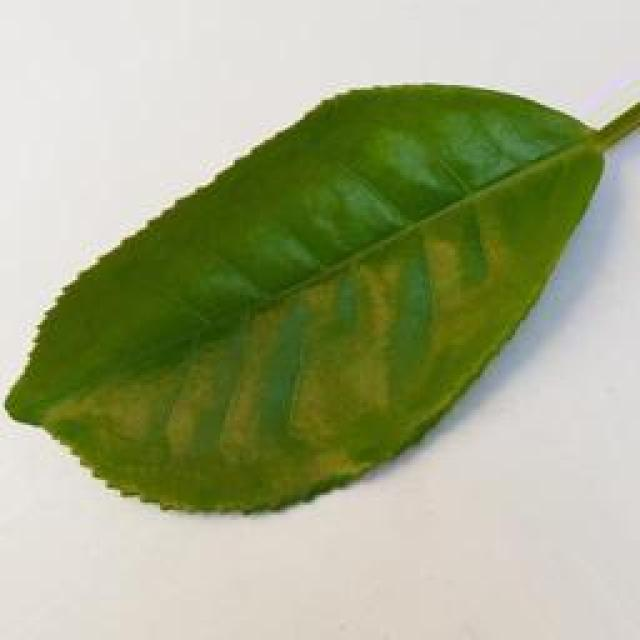Healthy: (2, 73, 640, 521)
